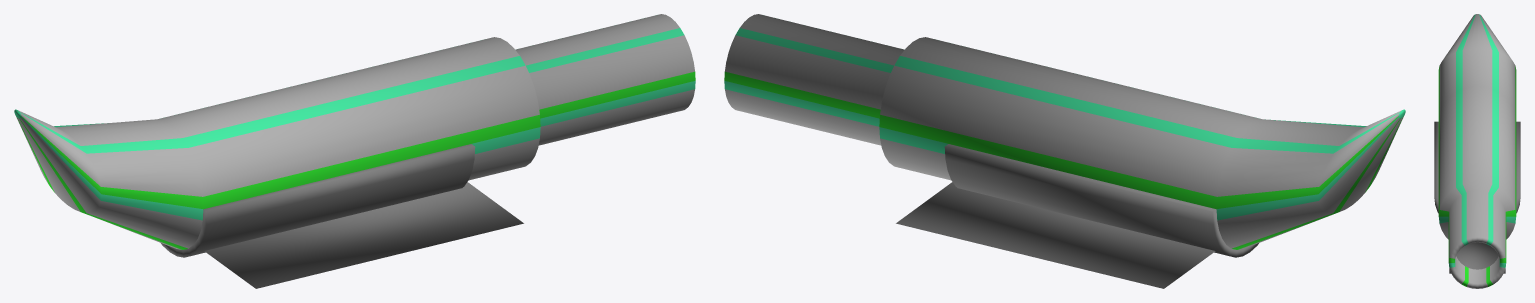
File: HeadGun.fbx
3 views of the same model, side by side, from view 1: azimuth 30°, elevation 25°; view 2: azimuth 150°, elevation 25°; view 3: azimuth 270°, elevation 25° (orthographic). The views are drawn at different scales.
Visible parts, largest first — view 1: Cylinder.001, Cube.002; view 2: Cylinder.001, Cube.002; view 3: Cylinder.001, Cube.002.
Part boxes in pixels (box(x1,y1,x2,y2)): Cylinder.001: box(14, 14, 695, 249); Cube.002: box(161, 144, 523, 288); Cylinder.001: box(724, 14, 1405, 249); Cube.002: box(896, 144, 1258, 288); Cylinder.001: box(1438, 14, 1516, 288); Cube.002: box(1434, 121, 1520, 273).
Size of the model in its own units: 255 by 79.67 by 50.58.
